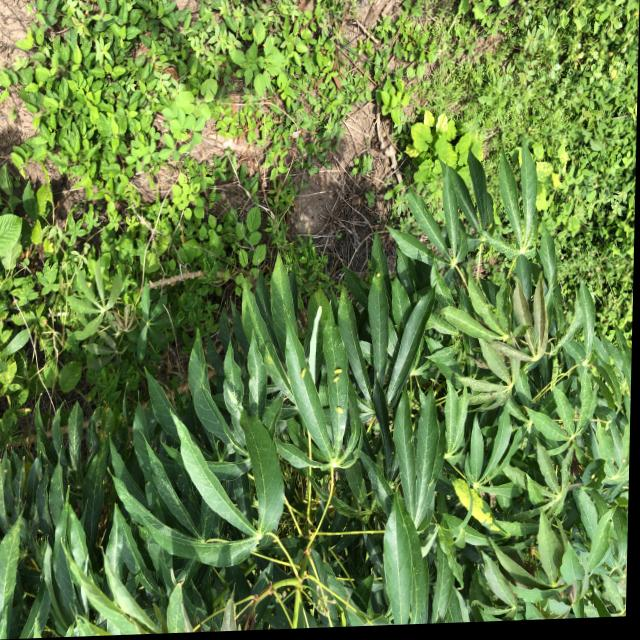Maleza: (179, 0, 638, 148), (23, 0, 285, 255), (0, 163, 79, 398), (546, 100, 637, 263)
Mosca: (296, 361, 309, 382), (331, 366, 344, 384), (335, 401, 348, 418), (373, 268, 383, 283)
